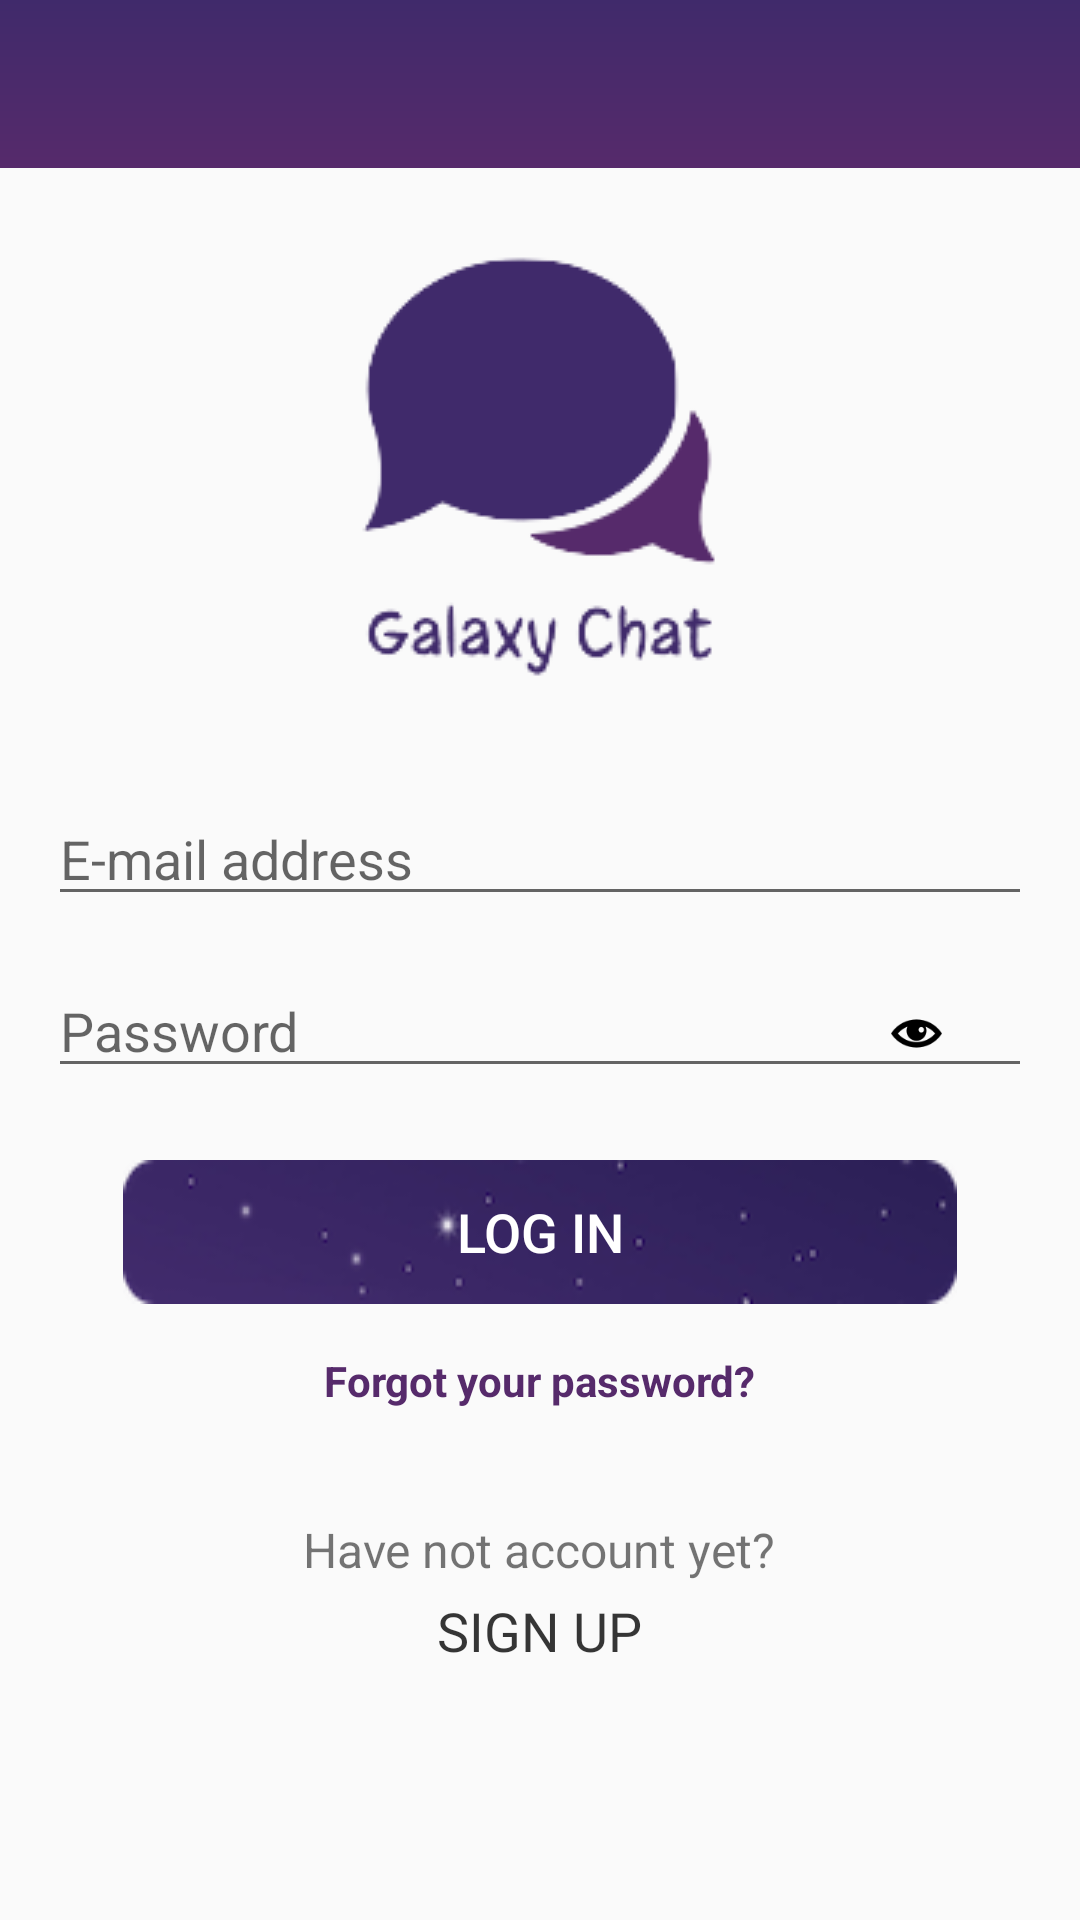

Icons on this 1080px×1920px Android screen, each with its box as (x1,y1,x2,y2):
show: (891,1019,942,1048)
